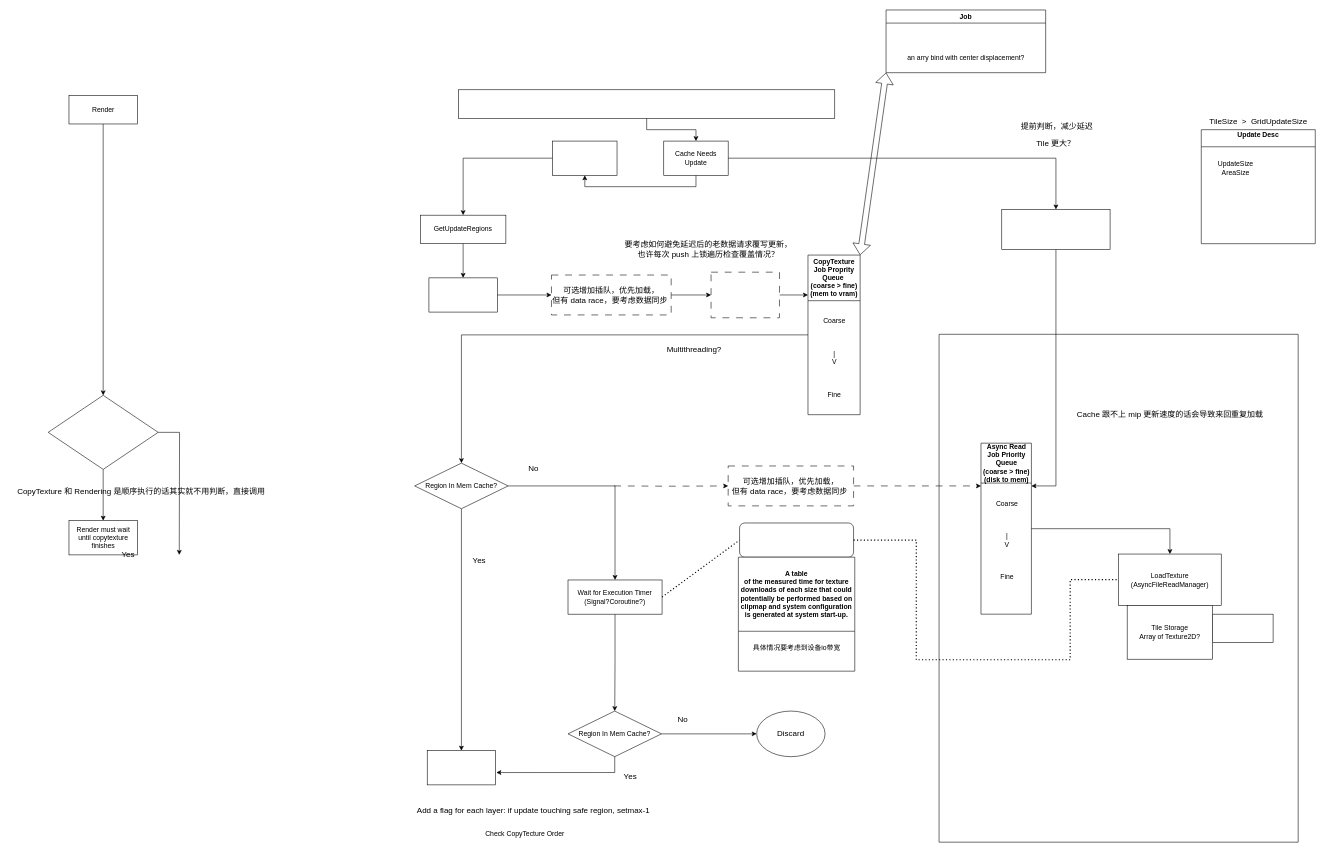
Some shapes in this 1325 by 852 pixel diagram are drawn without their labels. The centre of each missing label's shape, as x and y in pixels:
Clipmap Stack Needs Update: (x=584, y=158)
Copytexture: (x=461, y=767)
Execution Timer: (x=796, y=539)
GC(LRU): (x=1242, y=628)
GetTileCacheUpdateRegions: (x=1055, y=229)
Is Updated Region within Effective Size?: (x=103, y=432)
Optional: Remove Overlapped (Region) Pending Job when Received Request: (x=745, y=295)
Player Moves: (x=646, y=103)
Process and Divide: (x=462, y=294)
